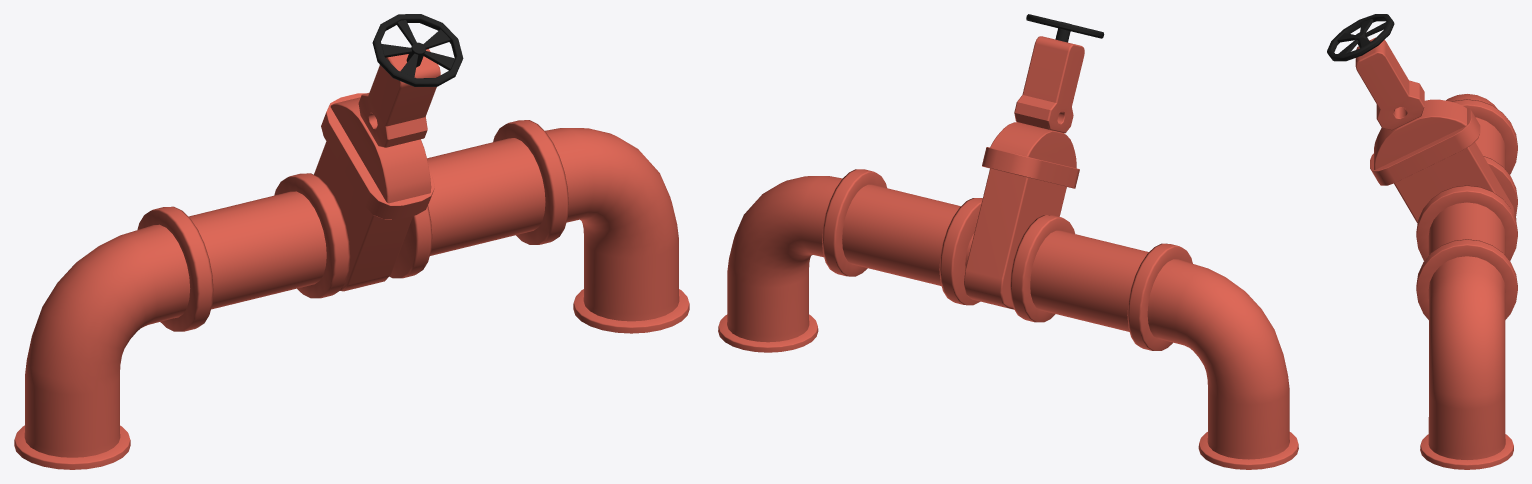
The model's file is redPipe.fbx.
3 renders of one model, left to right at view 1: azimuth 30°, elevation 25°; view 2: azimuth 150°, elevation 25°; view 3: azimuth 270°, elevation 25°, orthographic. The views are drawn at different scales.
Parts seen in each view (by area): view 1: redpipes_lo; view 2: redpipes_lo; view 3: redpipes_lo.
Boxes of the visible parts, x1,y1,x2,y2 form: redpipes_lo: (14, 14, 689, 469); redpipes_lo: (718, 14, 1298, 469); redpipes_lo: (1327, 14, 1517, 469).
Bounding box in the file's own units: 3.29 × 1.89 × 1.02.
